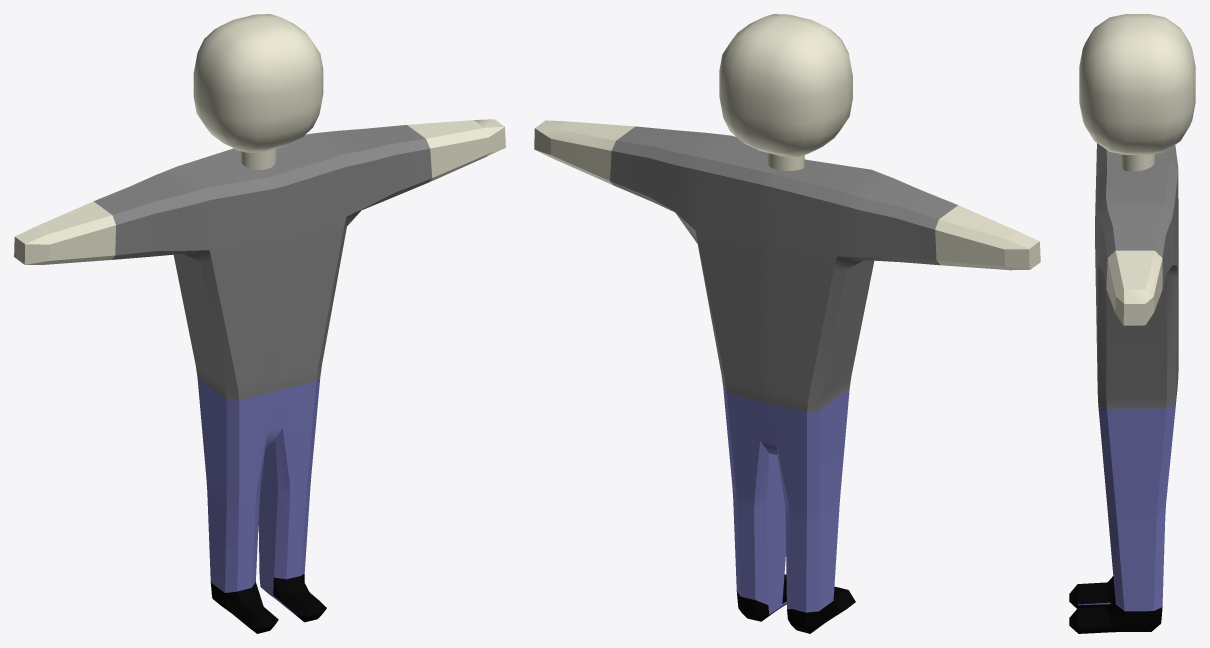
File: colour 3.fbx
The picture shows the model from 3 angles, left to right: view 1: azimuth 30°, elevation 25°; view 2: azimuth 150°, elevation 25°; view 3: azimuth 270°, elevation 25°; orthographic projection. The views are drawn at different scales.
Parts seen in each view (by area): view 1: pCube8; view 2: pCube8; view 3: pCube8.
Part boxes in pixels (x1=…): pCube8: x1=14, y1=14, x2=505, y2=633; pCube8: x1=534, y1=14, x2=1040, y2=633; pCube8: x1=1069, y1=14, x2=1195, y2=633.
Size of the model in its own units: 4.54 by 5.24 by 1.01.
